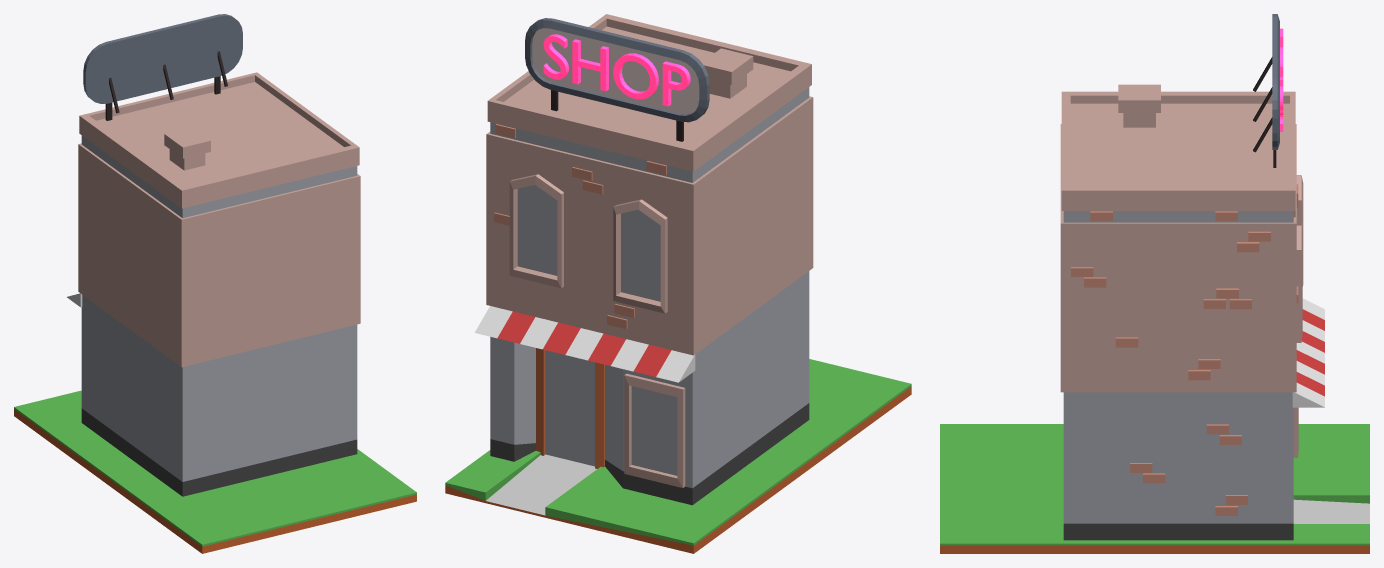
File: shop-building-multi_night.glb
3 views of the same model, side by side, from view 1: azimuth 30°, elevation 25°; view 2: azimuth 150°, elevation 25°; view 3: azimuth 270°, elevation 25° (orthographic). The views are drawn at different scales.
Parts seen in each view (by area): view 1: Cube.001, Cube (×2), Cube.005, Cube.006 (×2), sign_2, sign_0; view 2: Cube.001, Cube (×2), Cube.006 (×3), Cube.005, Cube.002 (×2), sign_1, sign_2, sign_letters, Cube.003, Cube.004; view 3: Cube.001, Cube (×2), Cube.006 (×3), Cube.005, Cube.002 (×2), sign_2, sign_0.
Part boxes in pixels (x1=…): Cube.001: x1=78, y1=143, x2=360, y2=367; Cube (×2): x1=81, y1=135, x2=357, y2=496; Cube.005: x1=79, y1=72, x2=359, y2=208; Cube.006 (×2): x1=14, y1=390, x2=416, y2=553; sign_2: x1=83, y1=14, x2=242, y2=103; sign_0: x1=105, y1=51, x2=227, y2=120; Cube.001: x1=486, y1=96, x2=813, y2=355; Cube (×2): x1=490, y1=87, x2=809, y2=505; Cube.006 (×3): x1=445, y1=359, x2=911, y2=553; Cube.005: x1=487, y1=14, x2=811, y2=171; Cube.002 (×2): x1=474, y1=306, x2=695, y2=382; sign_1: x1=532, y1=28, x2=699, y2=114; sign_2: x1=525, y1=18, x2=709, y2=122; sign_letters: x1=543, y1=34, x2=690, y2=106; Cube.003: x1=624, y1=373, x2=685, y2=487; Cube.004: x1=536, y1=348, x2=604, y2=468; Cube.001: x1=1060, y1=124, x2=1303, y2=392; Cube (×2): x1=1063, y1=211, x2=1293, y2=540; Cube.006 (×3): x1=940, y1=424, x2=1369, y2=553; Cube.005: x1=1061, y1=84, x2=1295, y2=210; Cube.002 (×2): x1=1292, y1=298, x2=1324, y2=407; sign_2: x1=1272, y1=14, x2=1279, y2=149; sign_0: x1=1253, y1=57, x2=1276, y2=167.
Size of the model in its own units: 4.5 by 7.87 by 6.84.
